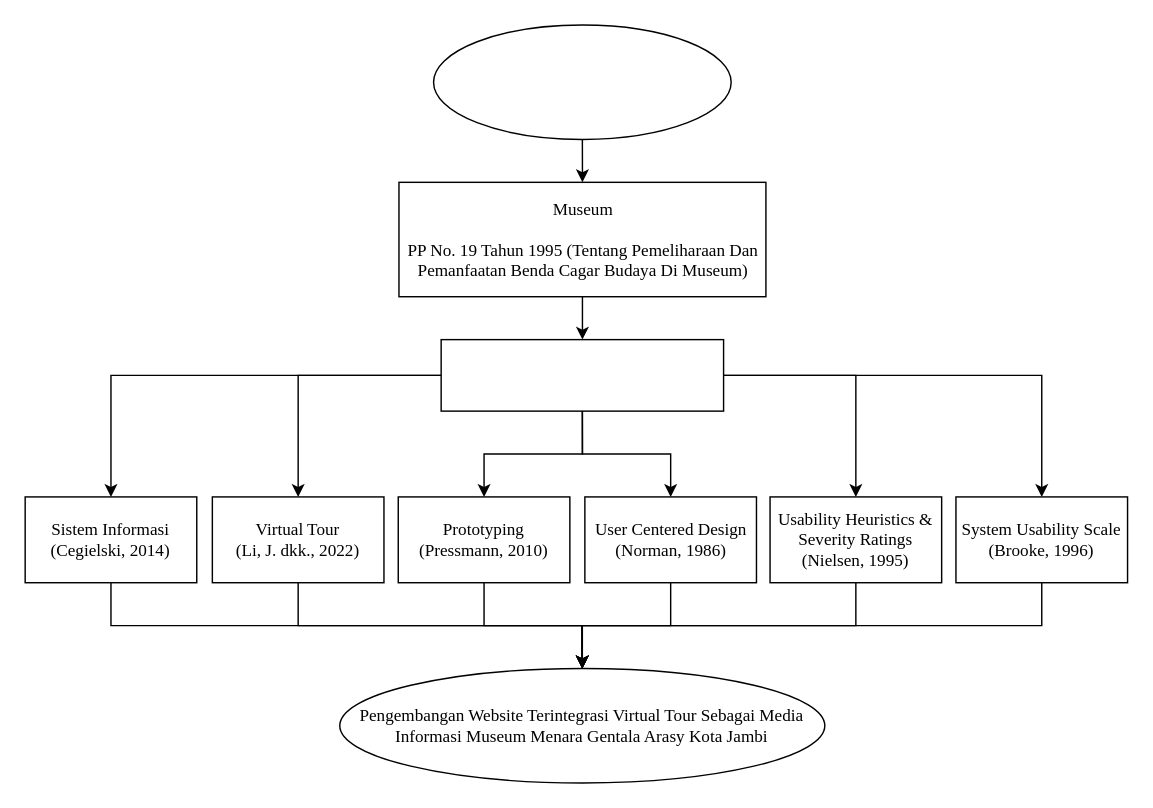
The diagram is 1153 pixels wide and 808 high, and some of its shapes have lost their labels. The shapes that lost their labels are listed below. From the top down, each one's centre as x and y in pixels, then its label:
At [581,81]: "Belum adanya website Museum Menara Gentala Arasy".
At [582,374]: "Landasan Teori dan Metodologi Desain Iteratif (DBR)".
